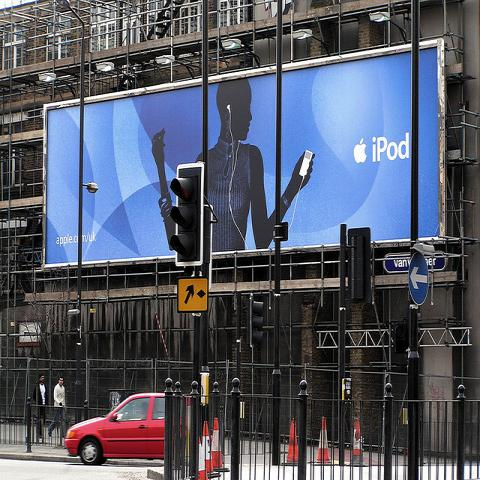car: (64, 393, 165, 466)
